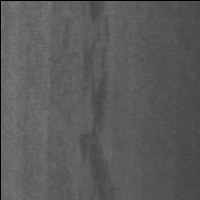inclusion: (76, 3, 120, 200)
